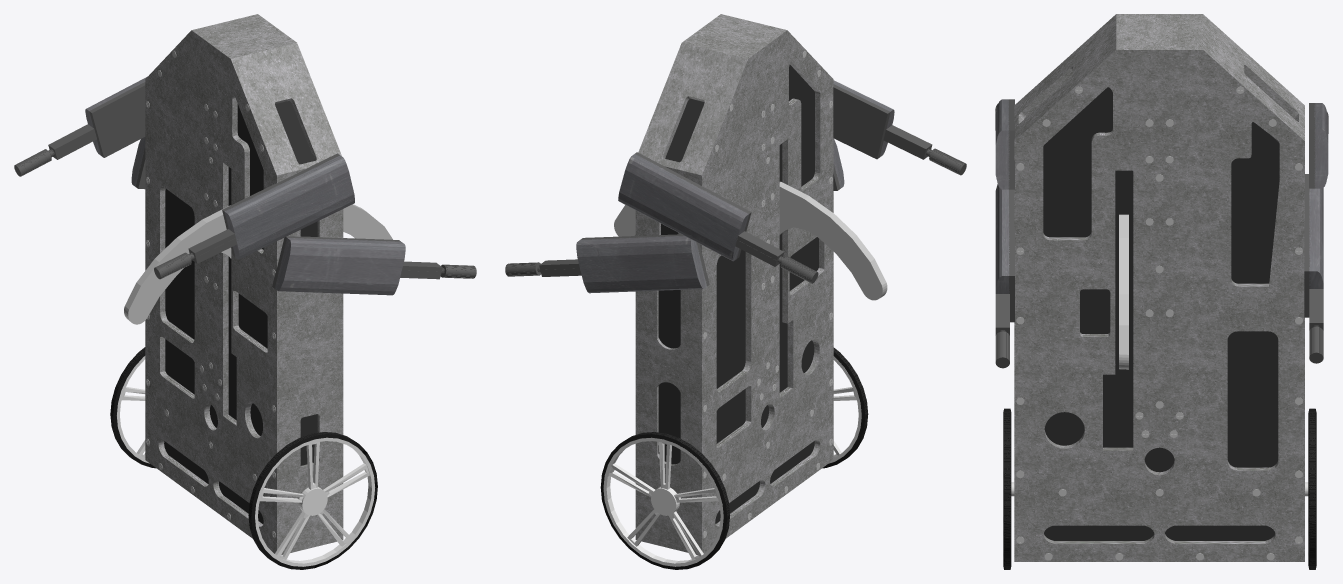
Rendered from segway.dae.
The picture shows the model from 3 angles, left to right: view 1: azimuth 30°, elevation 25°; view 2: azimuth 150°, elevation 25°; view 3: azimuth 270°, elevation 25°; orthographic projection. The views are drawn at different scales.
Visible parts, largest first — view 1: Skatula, Vypln, VelkaCast_003, VelkaCast_001, Kotva, ZadnaVelkaCast_000, Guma, Rafik, Guma_001, StrednaCast_000, StrednaCast_001, StrednaCast_003 (+2 smaller); view 2: Skatula, Vypln, VelkaCast_000, VelkaCast_002, Kotva, ZadnaVelkaCast_001, Guma_001, Rafik_001, Guma, StrednaCast_000, StrednaCast_001, StrednaCast_002 (+2 smaller); view 3: Skatula, Vypln, Kotva, VelkaCast_003, VelkaCast_002, Guma, Guma_001, VelkaCast_001, VelkaCast_000, ZadnaVelkaCast_002, ZadnaVelkaCast_003, ZadnaVelkaCast_001 (+5 smaller).
Boxes of the visible parts, left/top/right/bottom form: Skatula: left=145, top=14, right=343, bottom=555; Vypln: left=164, top=101, right=317, bottom=523; VelkaCast_003: left=275, top=238, right=405, bottom=295; VelkaCast_001: left=224, top=155, right=354, bottom=259; Kotva: left=124, top=204, right=392, bottom=324; ZadnaVelkaCast_000: left=89, top=82, right=145, bottom=157; Guma: left=248, top=432, right=377, bottom=569; Rafik: left=255, top=437, right=375, bottom=566; Guma_001: left=110, top=347, right=155, bottom=468; StrednaCast_000: left=48, top=124, right=96, bottom=159; StrednaCast_001: left=188, top=229, right=237, bottom=263; StrednaCast_003: left=400, top=261, right=442, bottom=279; Skatula: left=635, top=14, right=833, bottom=554; Vypln: left=658, top=64, right=818, bottom=523; VelkaCast_000: left=618, top=154, right=749, bottom=261; VelkaCast_002: left=576, top=236, right=706, bottom=293; Kotva: left=614, top=181, right=887, bottom=300; ZadnaVelkaCast_001: left=833, top=84, right=890, bottom=159; Guma_001: left=600, top=432, right=730, bottom=569; Rafik_001: left=603, top=437, right=723, bottom=566; Guma: left=822, top=347, right=868, bottom=468; StrednaCast_000: left=735, top=231, right=784, bottom=266; StrednaCast_001: left=883, top=125, right=932, bottom=159; StrednaCast_002: left=539, top=259, right=581, bottom=276; Skatula: left=1014, top=14, right=1304, bottom=561; Vypln: left=1043, top=87, right=1279, bottom=540; Kotva: left=1119, top=214, right=1128, bottom=369; VelkaCast_003: left=995, top=184, right=1009, bottom=293; VelkaCast_002: left=1309, top=188, right=1323, bottom=288; Guma: left=1003, top=408, right=1011, bottom=569; Guma_001: left=1308, top=408, right=1316, bottom=569; VelkaCast_001: left=995, top=99, right=1009, bottom=189; VelkaCast_000: left=1314, top=103, right=1328, bottom=188; ZadnaVelkaCast_002: left=1304, top=174, right=1310, bottom=317; ZadnaVelkaCast_003: left=1009, top=189, right=1014, bottom=322; ZadnaVelkaCast_001: left=1008, top=99, right=1014, bottom=189.
Bounding box in the file's own units: 20.13 × 16.5 × 29.
